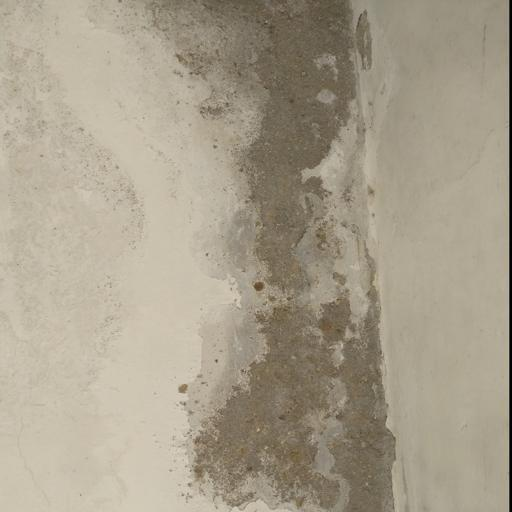peeling: (140, 2, 424, 512)
